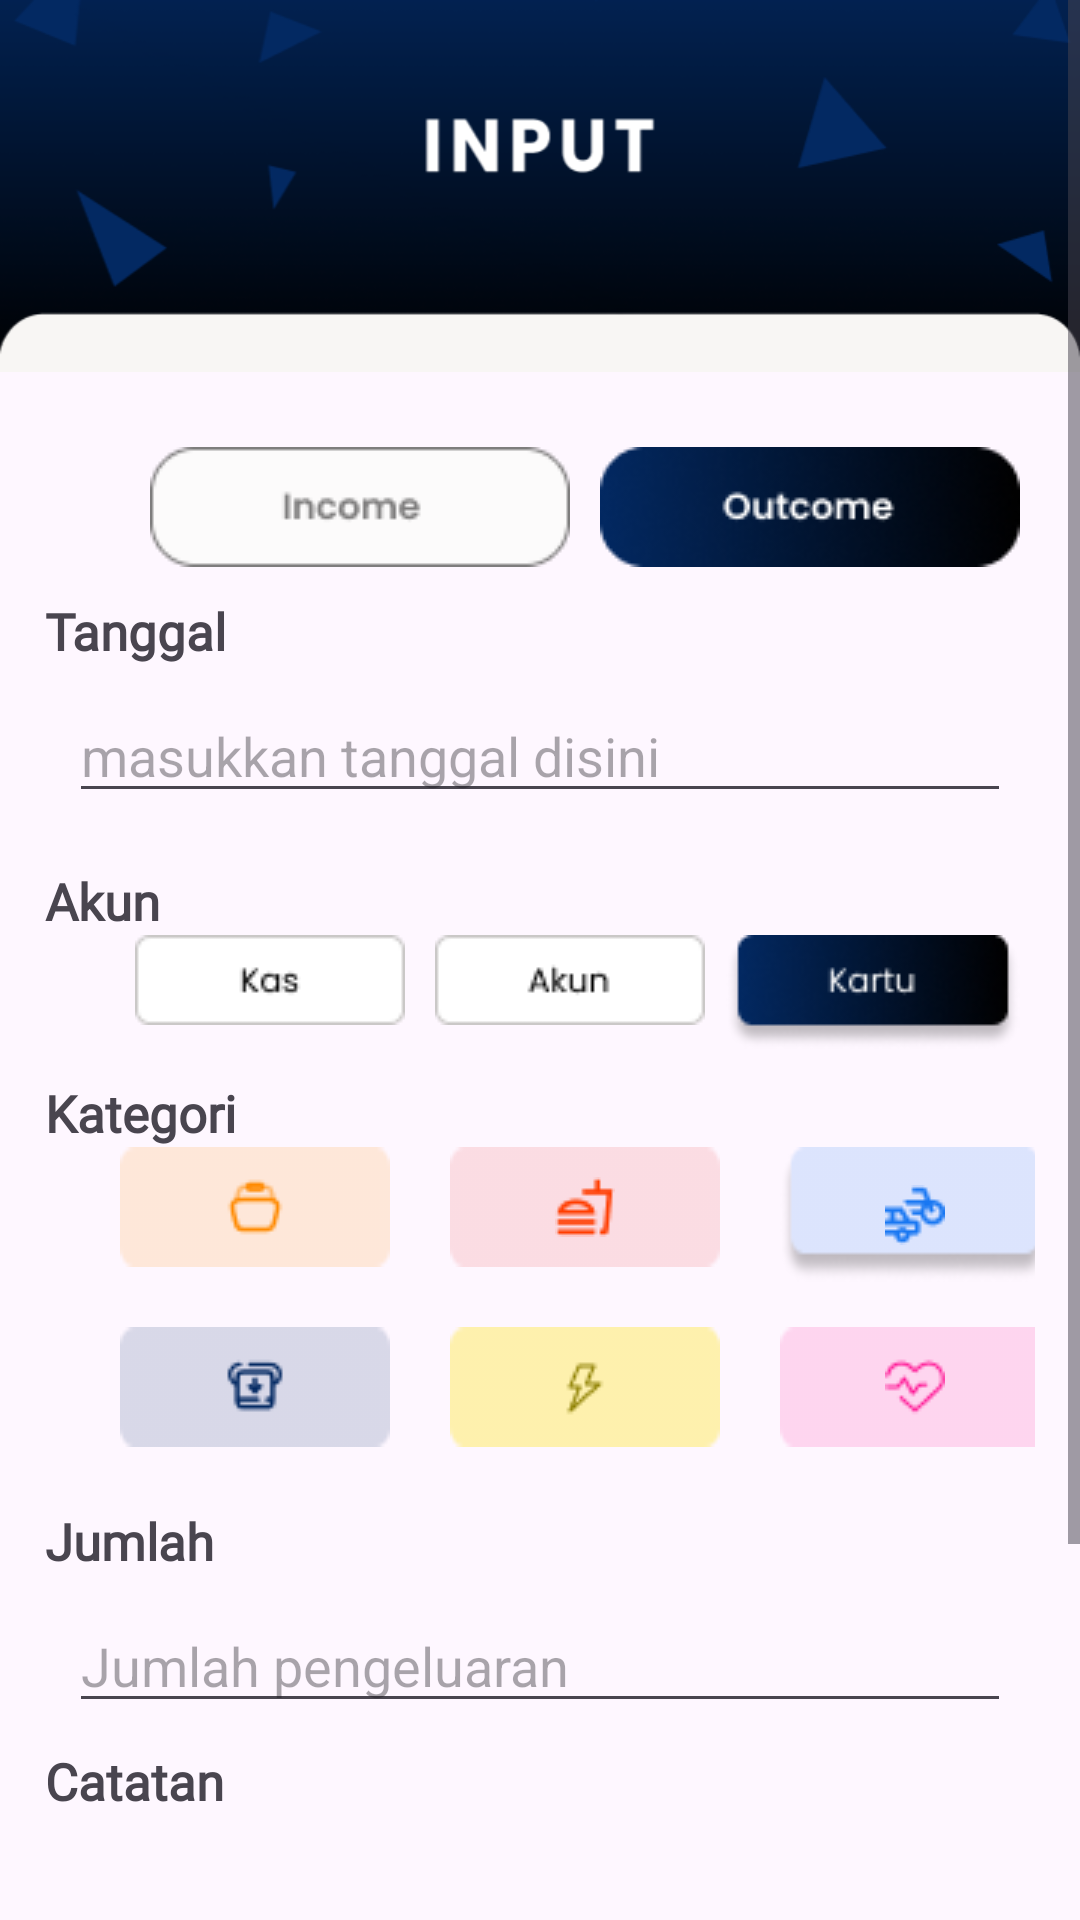

Named icons in this screenshot (1080w x 1920h) and their bounding boxes, (x1, y1, x2, y2):
outlinefastfood: (450, 1147, 720, 1267)
pepiconspencil electricity: (450, 1327, 720, 1447)
solar cashoutbroken: (120, 1327, 390, 1447)
